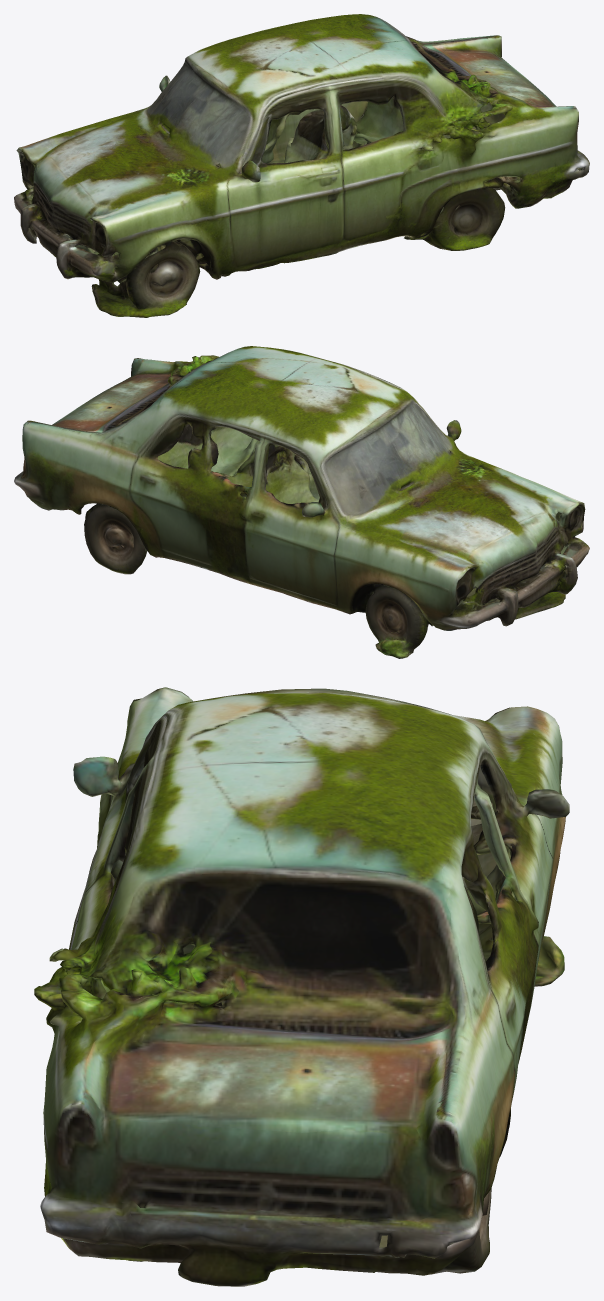
File: Realistic_crashed_old_0508170645_refine.glb
3 renders of one model, top to bottom at view 1: azimuth 30°, elevation 25°; view 2: azimuth 150°, elevation 25°; view 3: azimuth 270°, elevation 25°, orthographic. The views are drawn at different scales.
Size of the model in its own units: 2 by 0.72 by 0.9226.
1 material, 1 textured.
